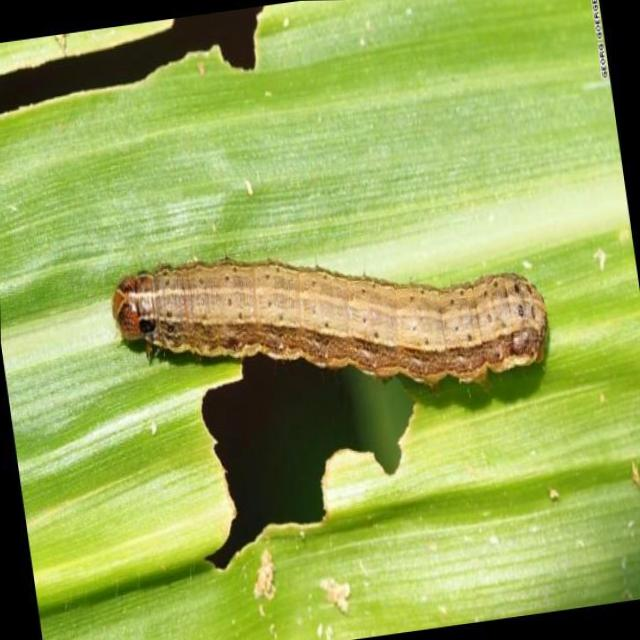pest: (108, 248, 546, 384)
